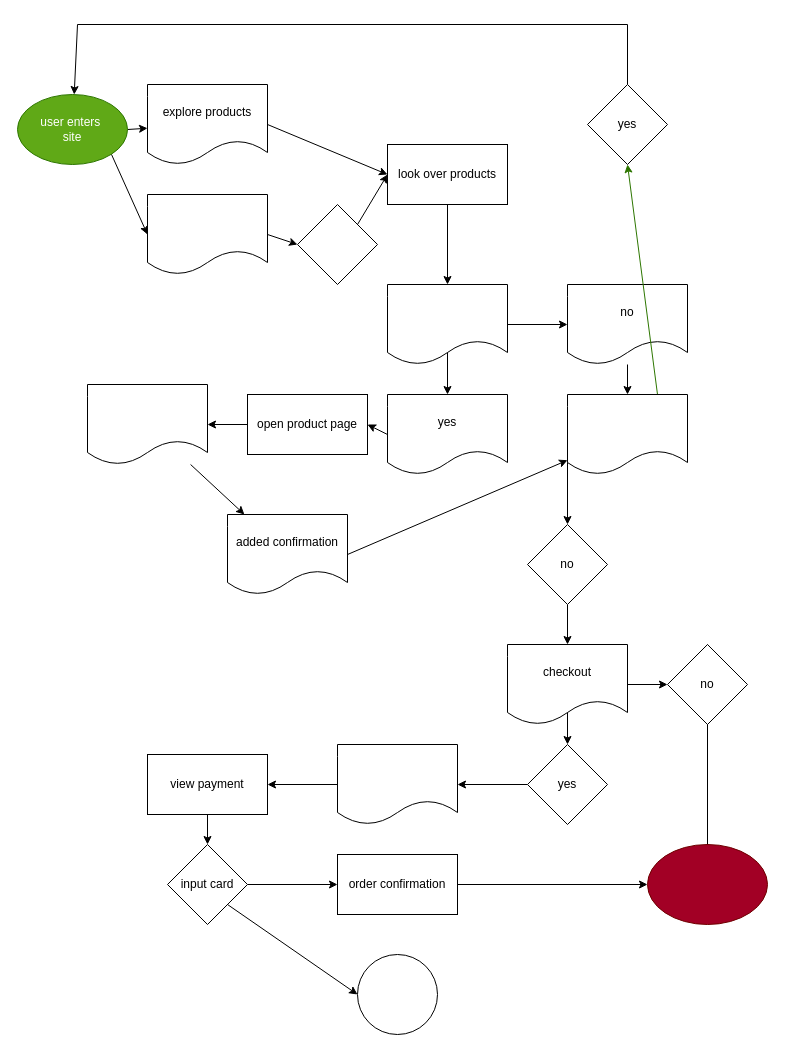
The diagram is 785 pixels wide and 1052 high, and some of its shapes have lost their labels. Here are the shapes that lost their labels. From the top down, the centre of each, then its label:
At point 207,234: "searching for product".
At point 337,244: "input".
At point 447,324: "view specific product".
At point 147,424: "add to cart".
At point 627,434: "continue shopping".
At point 397,784: "view cart".
At point 707,884: "leave site".
At point 397,994: "email".
